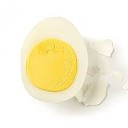begg: (22, 17, 89, 99)
